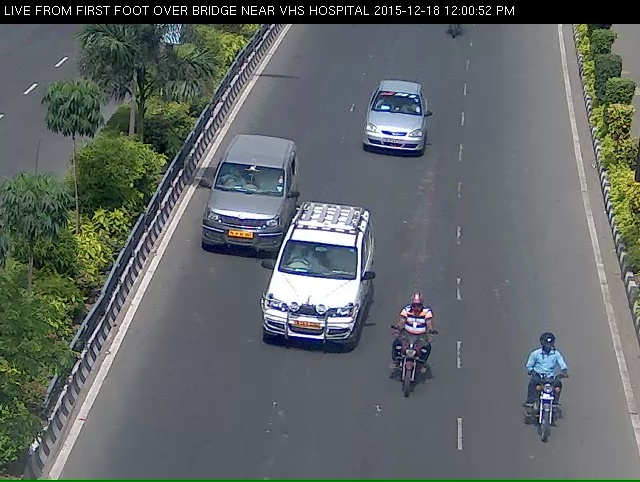Car: (257, 220, 347, 380), (196, 147, 277, 261), (360, 101, 429, 172)
Person: (384, 314, 441, 420), (522, 335, 569, 462)
